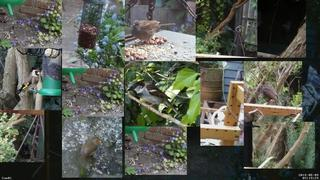dunnock: (131, 20, 176, 46)
goldfinch: (16, 68, 41, 96)
robin: (79, 136, 102, 162)
sparrow: (126, 81, 180, 115)
starling: (262, 81, 282, 106)
